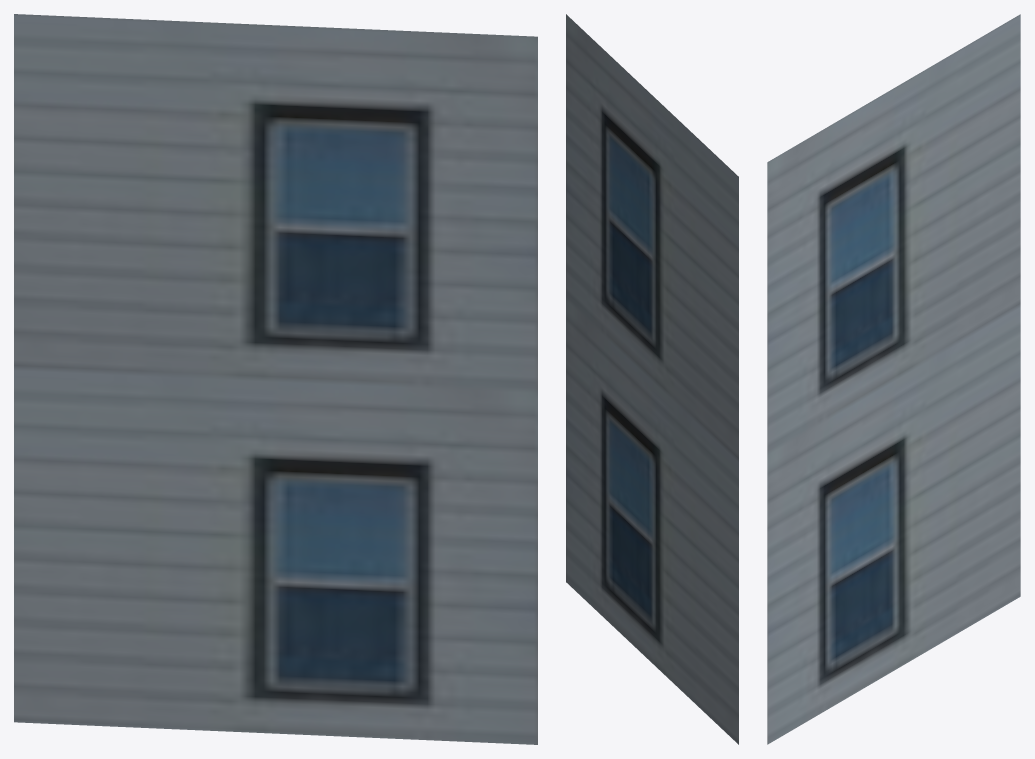
File: ResTex__3815.fbx
3 renders of one model, left to right at view 1: azimuth 30°, elevation 25°; view 2: azimuth 150°, elevation 25°; view 3: azimuth 270°, elevation 25°, orthographic. The views are drawn at different scales.
Visible parts, largest first — view 1: CityEngineMaterial_18_m; view 2: CityEngineMaterial_18_m; view 3: CityEngineMaterial_18_m.
Boxes of the visible parts, left/top/right/bottom form: CityEngineMaterial_18_m: left=14, top=14, right=537, bottom=744; CityEngineMaterial_18_m: left=566, top=14, right=738, bottom=744; CityEngineMaterial_18_m: left=767, top=14, right=1020, bottom=744.
Size of the model in its own units: 3.28 by 6 by 2.37.
Materials: 1 (1 with a texture image).
